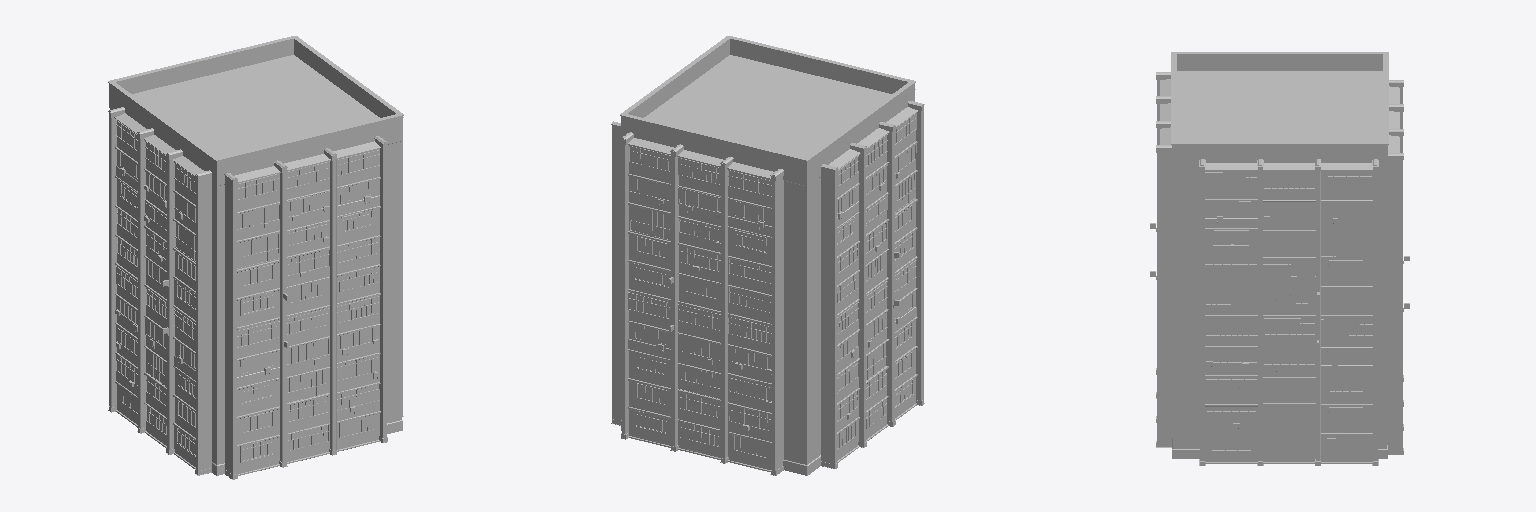
File: edificiob.mtl.obj
3 renders of one model, left to right at view 1: azimuth 30°, elevation 25°; view 2: azimuth 150°, elevation 25°; view 3: azimuth 270°, elevation 25°, orthographic.
Visible parts, largest first — view 1: Panel_House_Wikipedia_of_Russia_01_01; view 2: Panel_House_Wikipedia_of_Russia_01_01; view 3: Panel_House_Wikipedia_of_Russia_01_01.
Part boxes in pixels (x1,y1,x2,y2): Panel_House_Wikipedia_of_Russia_01_01: (108,36,403,479); Panel_House_Wikipedia_of_Russia_01_01: (611,36,924,475); Panel_House_Wikipedia_of_Russia_01_01: (1150,52,1409,465).
Bounding box in the file's own units: 6.76 × 9.05 × 6.76.